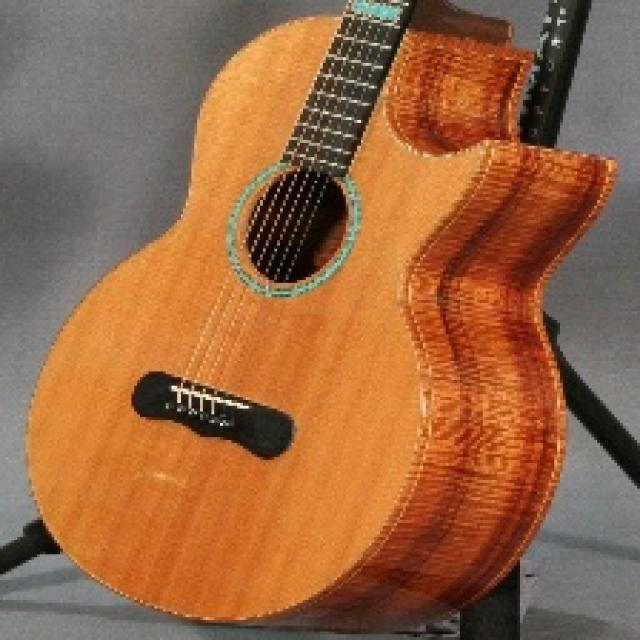acousticguitar: (28, 0, 613, 629)
